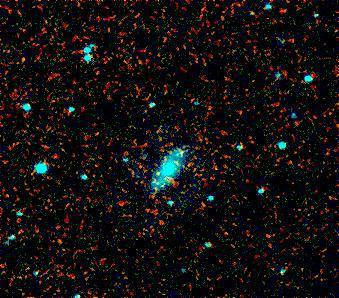star: (146, 162, 176, 192)
